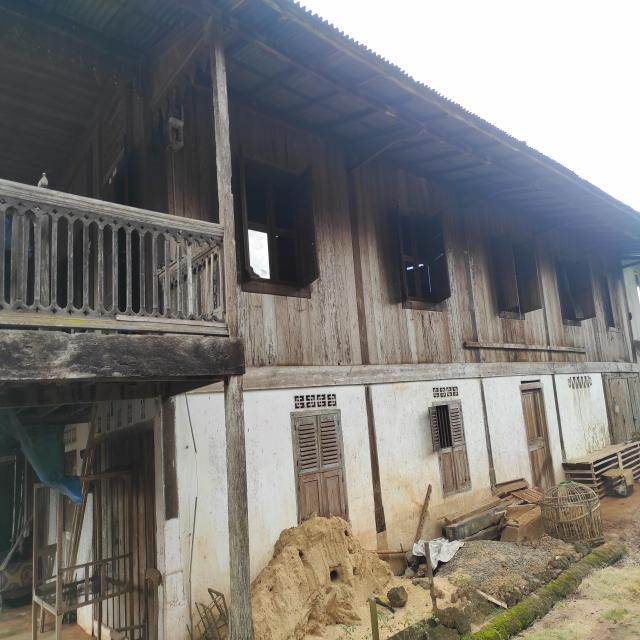Atap: (5, 2, 639, 255)
Pintu: (519, 379, 555, 493)
jendela: (235, 145, 320, 298), (429, 400, 471, 499)
